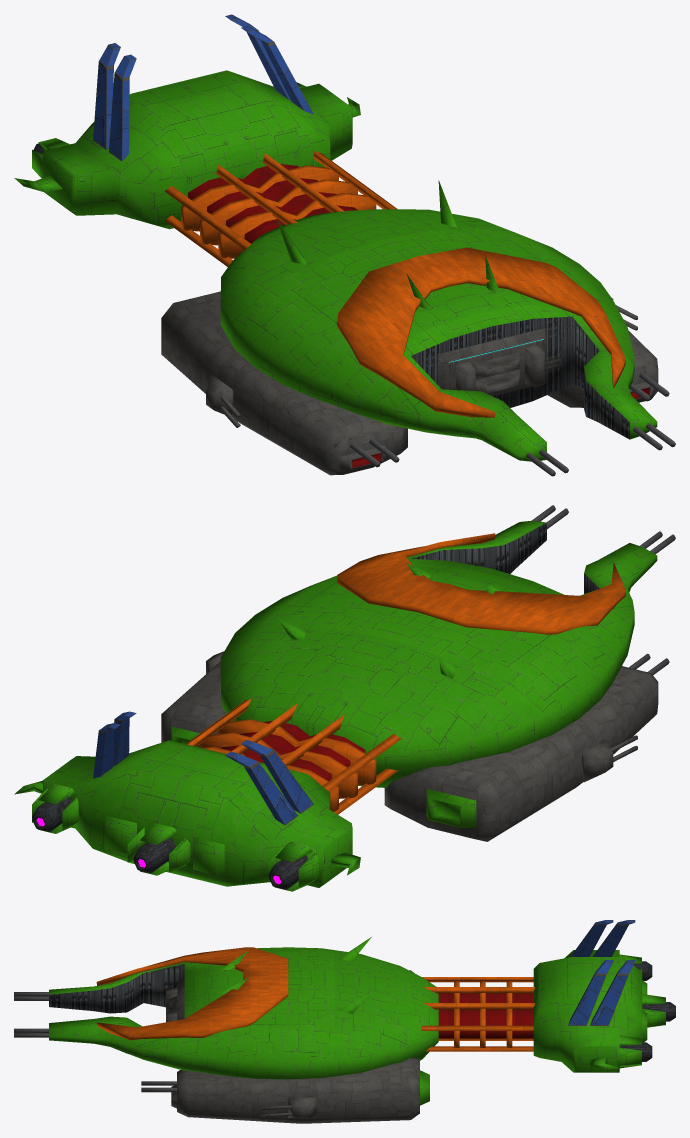
File: dilgar-garasoch.glb
3 views of the same model, one above another, from view 1: azimuth 30°, elevation 25°; view 2: azimuth 150°, elevation 25°; view 3: azimuth 270°, elevation 25° (orthographic). The views are drawn at different scales.
Parts seen in each view (by area): view 1: Dilgar_Tratharti; view 2: Dilgar_Tratharti; view 3: Dilgar_Tratharti.
Part boxes in pixels (x1,y1,x2,y2): Dilgar_Tratharti: (14,14,675,476); Dilgar_Tratharti: (14,505,675,891); Dilgar_Tratharti: (14,920,675,1123).
Bounding box in the file's own units: 117 × 49.52 × 238.
Materials: 10 (8 with a texture image).
